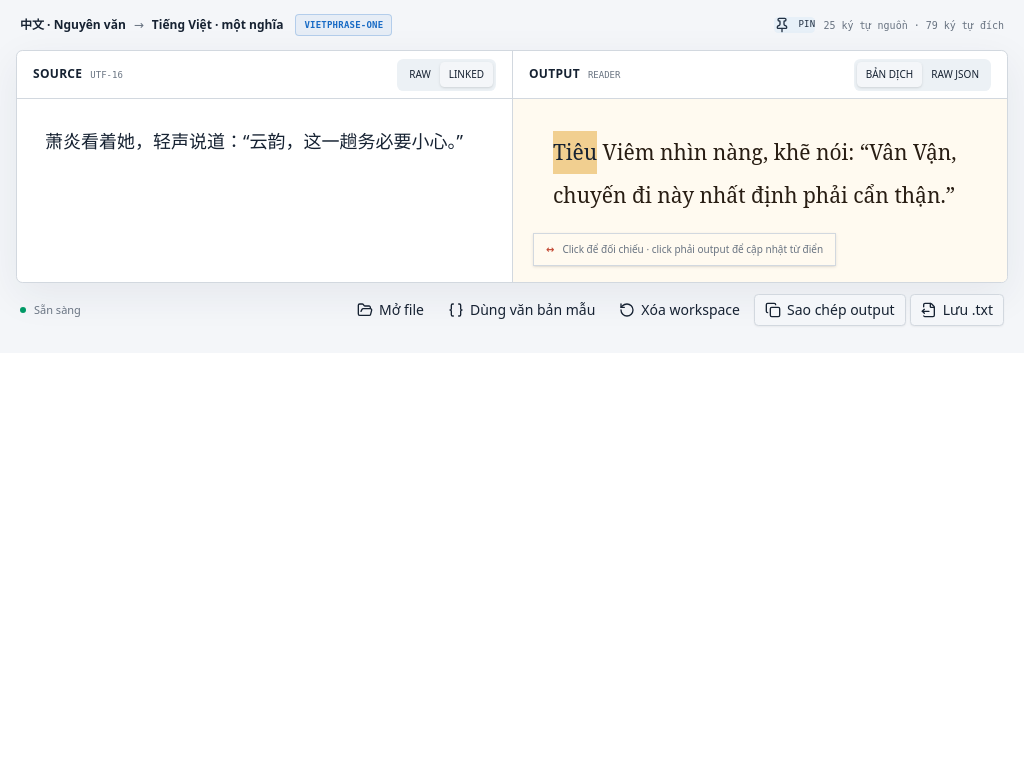
Test: translation range pin › uses text selected inside one mapped range as the initial value
The image size is (1024, 768).
Right-click the button with aria-label "Range 1: Tiêu Viêm" at [604, 152], box [553,138,655,166]
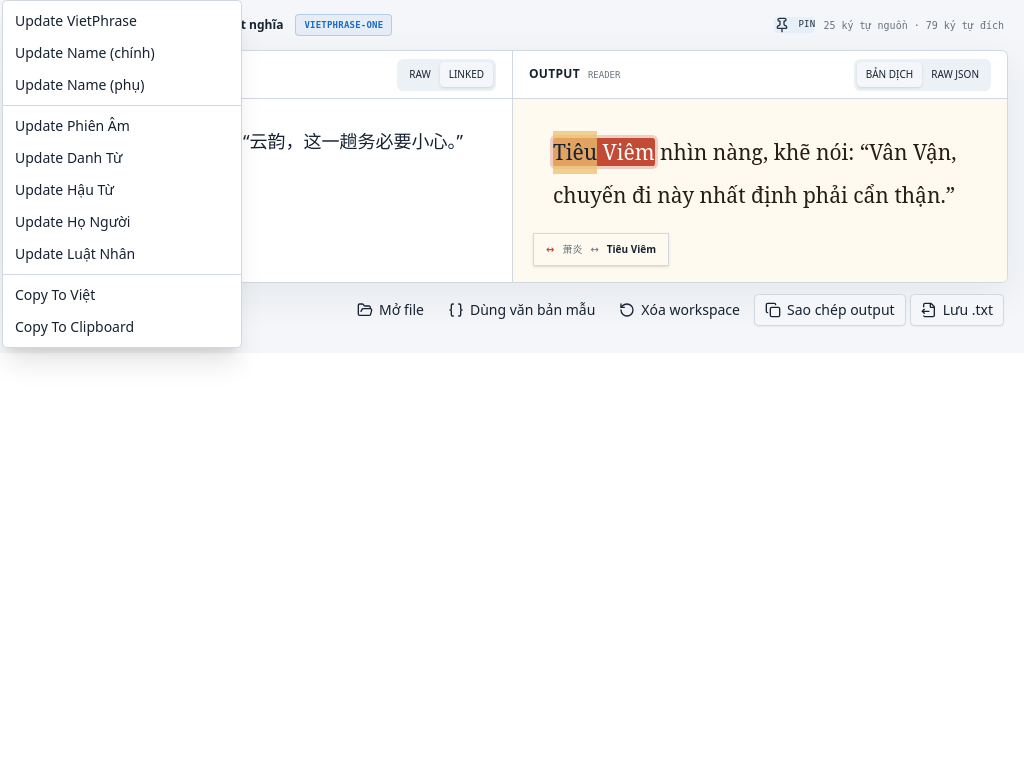
Click the menu item "Update Name (chính)" at [85, 52], box [15,43,155,62]
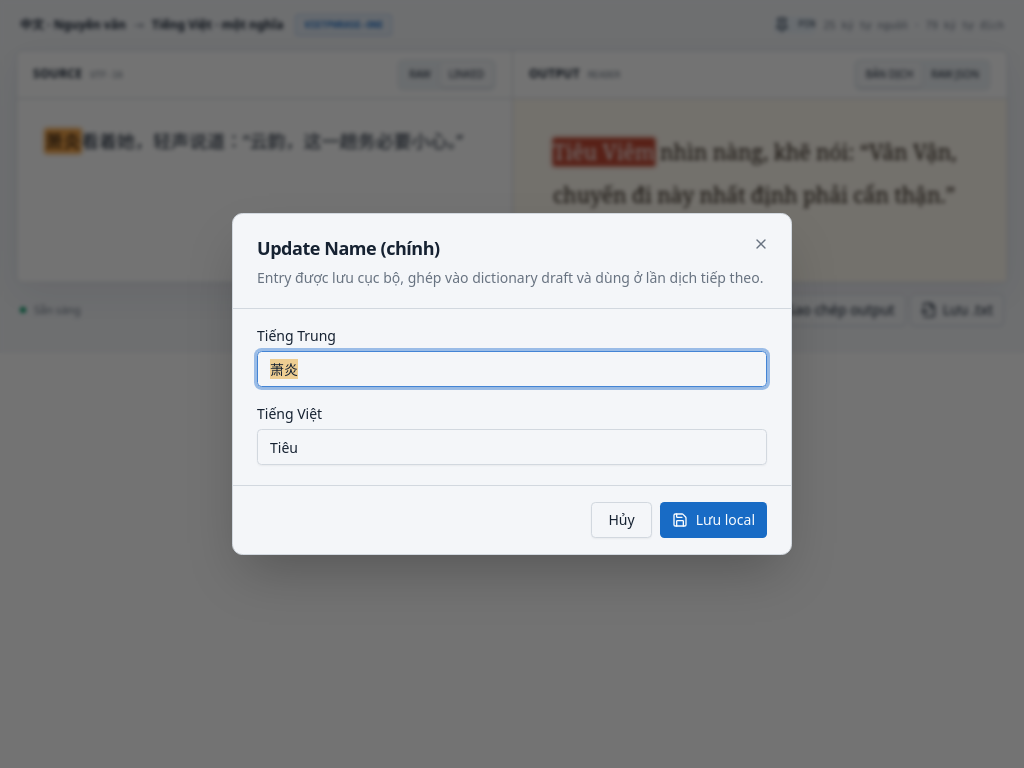
expect the field labelled "Tiếng Trung" holds "萧炎": met, box [257,351,767,387]
expect the field labelled "Tiếng Việt" holds "Tiêu": met, box [257,429,767,465]
